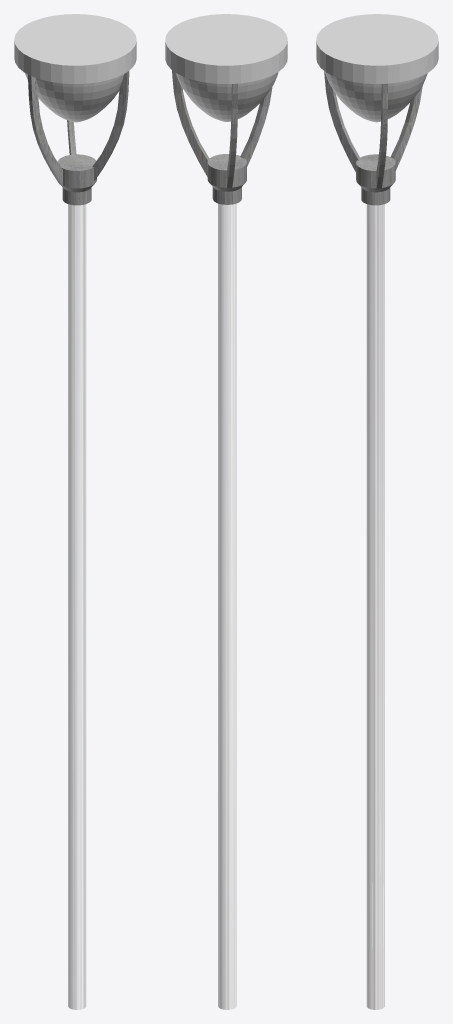
Rendered from Poste.gltf.
3 views of the same model, side by side, from view 1: azimuth 90°, elevation 25°; view 2: azimuth 150°, elevation 25°; view 3: azimuth 270°, elevation 25° (orthographic).
Parts seen in each view (by area): view 1: Poste, TampaLampada, Lampada, Suporte, Braço1, Braço2; view 2: Poste, TampaLampada, Lampada, Suporte, Braço3, Braço1, Braço2; view 3: Poste, TampaLampada, Lampada, Suporte, Braço2, Braço3, Braço1.
Boxes of the visible parts, x1,y1,x2,y2 form: Poste: (68, 204, 86, 1009); TampaLampada: (14, 14, 136, 83); Lampada: (25, 73, 123, 122); Suporte: (57, 154, 96, 205); Braço1: (28, 74, 62, 185); Braço2: (92, 71, 129, 180); Poste: (218, 203, 236, 1009); TampaLampada: (165, 14, 287, 83); Lampada: (176, 72, 278, 121); Suporte: (207, 154, 246, 204); Braço3: (172, 70, 209, 176); Braço1: (227, 83, 237, 187); Braço2: (240, 87, 272, 166); Poste: (366, 204, 384, 1009); TampaLampada: (316, 14, 438, 83); Lampada: (325, 72, 427, 122); Suporte: (356, 154, 395, 205); Braço2: (324, 71, 360, 171); Braço3: (376, 83, 387, 188); Braço1: (390, 86, 422, 170).
Size of the model in its own units: 0.2702 by 2.35 by 0.2702.
Materials: 7 (5 with a texture image).
